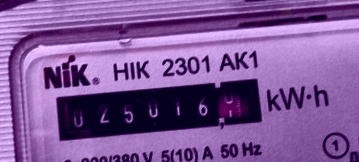0: (145, 95, 161, 119), (70, 105, 84, 128), (220, 83, 234, 104)
1: (170, 92, 183, 118), (224, 106, 233, 118)
2: (95, 100, 110, 124)
5: (120, 101, 133, 123)
6: (194, 93, 209, 119)
screen: (45, 67, 271, 147)
